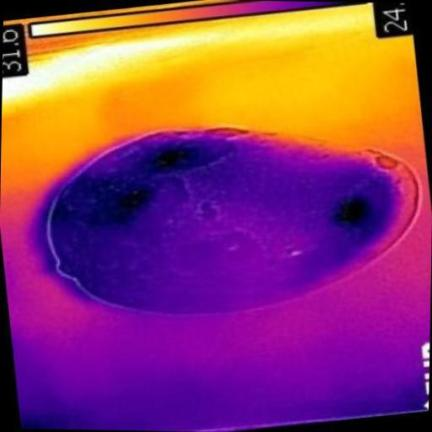mango: (50, 130, 417, 314)
